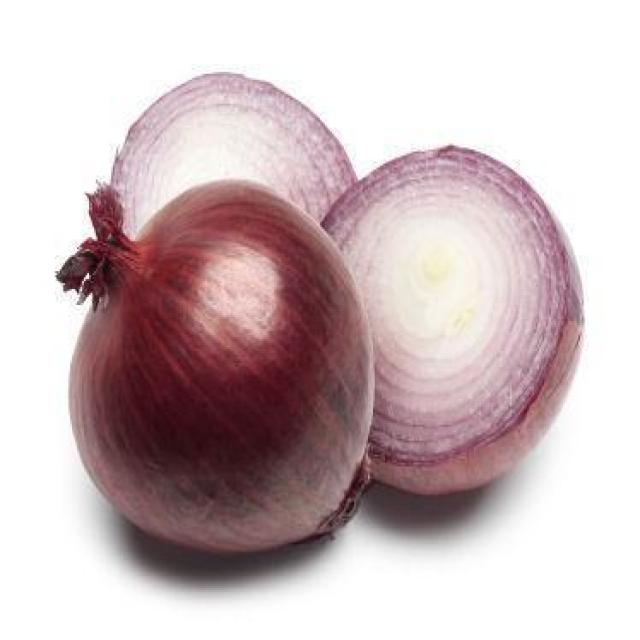Onion: (56, 178, 376, 554), (322, 142, 585, 494), (110, 70, 354, 239)
